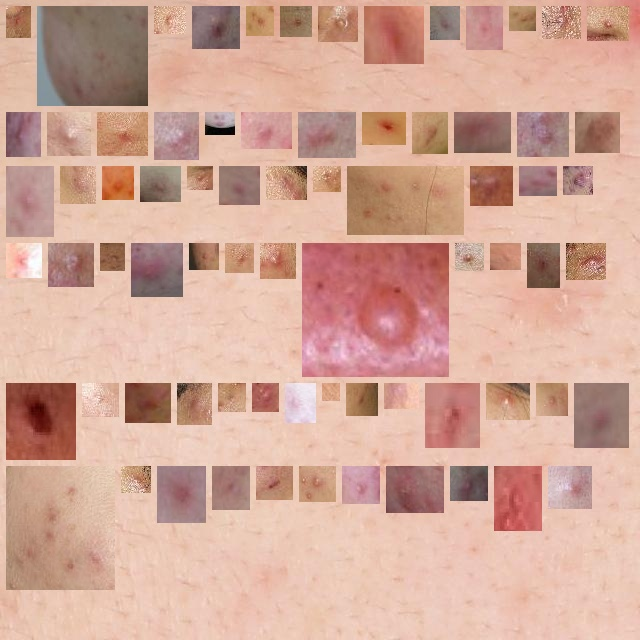papule: (310, 251, 441, 369), (14, 474, 107, 582), (45, 14, 140, 98), (355, 174, 456, 227), (14, 391, 68, 452), (433, 391, 472, 440), (582, 391, 621, 440), (372, 14, 416, 56), (14, 174, 46, 229), (502, 474, 534, 523), (139, 251, 175, 289), (165, 474, 198, 515), (462, 120, 503, 152), (394, 474, 436, 505), (306, 120, 348, 150), (525, 120, 561, 149), (105, 120, 140, 148), (162, 120, 191, 152), (200, 14, 232, 41), (56, 251, 86, 279), (55, 120, 83, 148), (556, 474, 584, 501), (249, 120, 284, 141), (583, 120, 612, 145), (133, 391, 163, 415), (478, 174, 505, 198), (220, 474, 242, 502), (474, 14, 495, 42), (494, 391, 522, 412), (227, 174, 252, 197), (285, 391, 308, 415), (14, 120, 33, 149), (420, 120, 440, 146), (574, 251, 598, 272), (148, 174, 173, 194), (595, 14, 621, 33), (185, 391, 204, 417), (535, 251, 552, 280), (350, 474, 372, 496), (326, 14, 350, 34), (370, 120, 398, 137), (274, 174, 299, 192), (68, 174, 88, 196), (307, 474, 328, 494), (458, 474, 480, 493), (268, 251, 288, 271), (550, 14, 573, 31), (14, 251, 34, 270), (90, 391, 111, 409), (264, 474, 285, 492), (392, 384, 411, 401), (527, 174, 549, 188), (110, 174, 126, 192), (354, 391, 370, 408), (544, 391, 560, 408), (438, 14, 452, 32), (288, 14, 304, 29), (162, 14, 178, 26), (571, 174, 585, 187), (233, 251, 246, 265), (254, 14, 266, 28), (498, 251, 513, 262), (463, 251, 476, 263), (226, 391, 238, 404), (197, 251, 211, 262), (129, 474, 143, 485), (14, 14, 23, 30), (260, 391, 271, 404), (321, 174, 333, 184), (108, 251, 117, 263), (517, 14, 528, 23), (213, 120, 227, 127), (195, 174, 205, 182)
